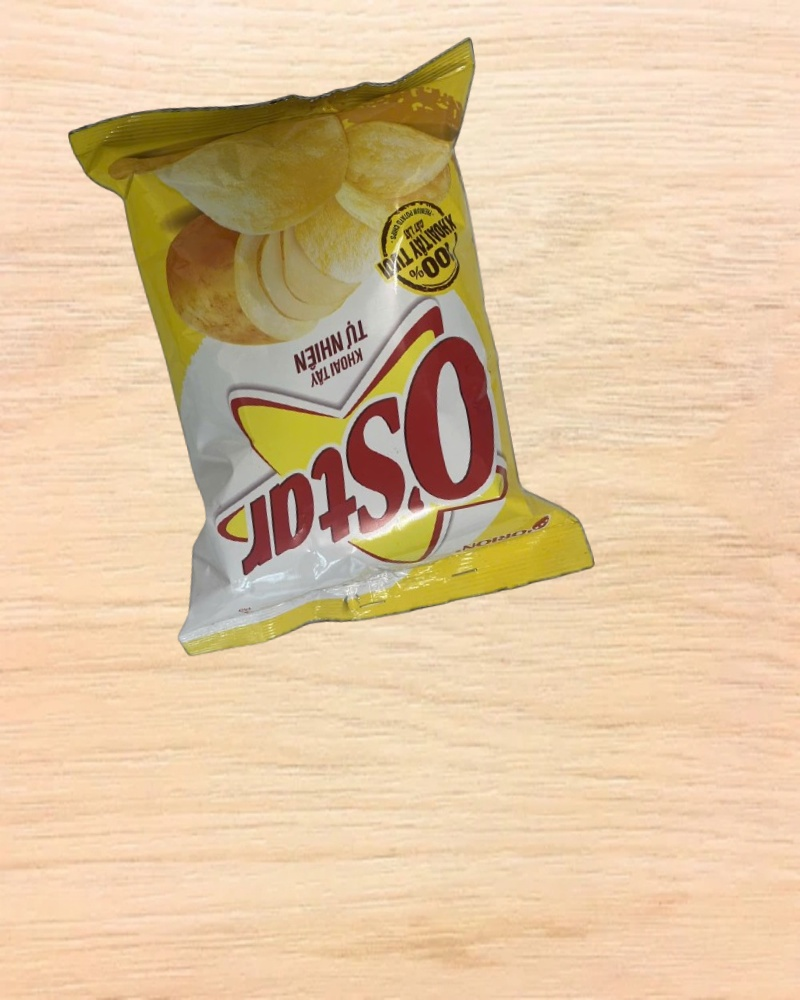Snack cua: (71, 39, 595, 654)
